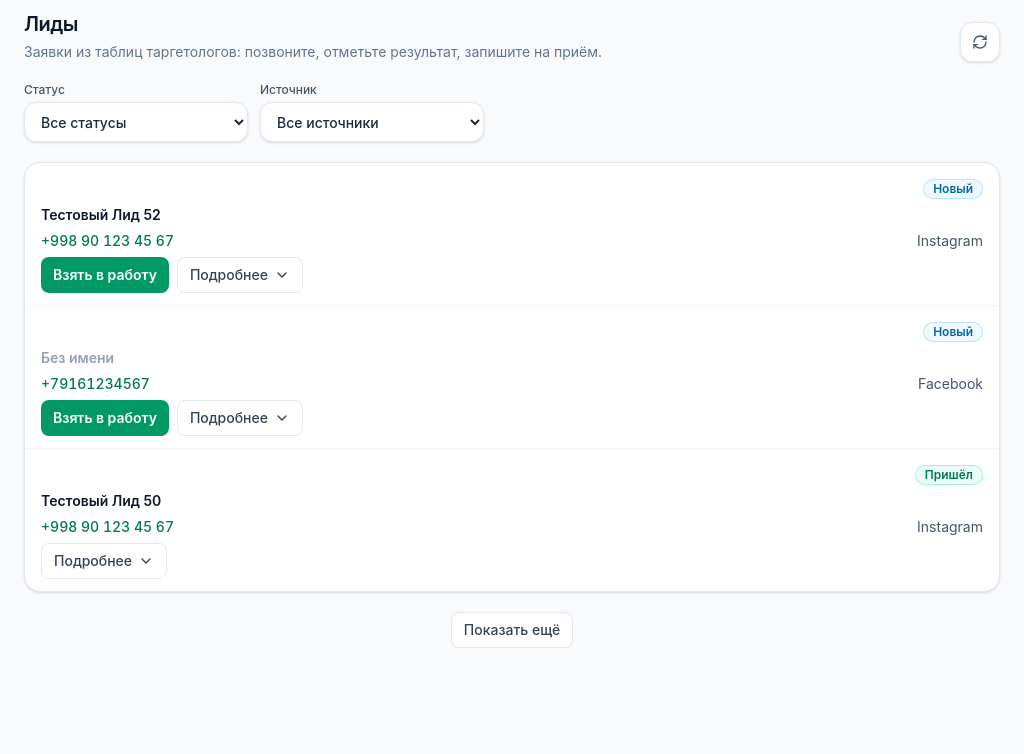
Test: staff leads page › ignores «Показать ещё» while the list is being reloaded: the old cursor is not asked for
Click the button named "Обновить" at x=980, y=42, box [960,22,1000,62]
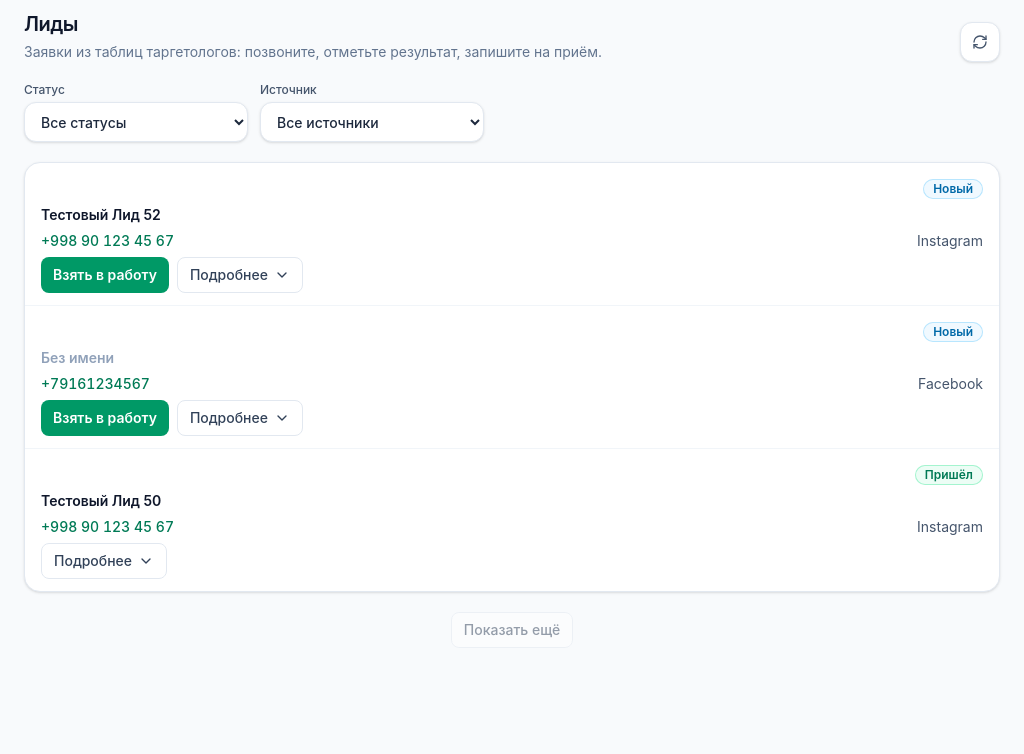
Result: the button "Показать ещё" is disabled
Click the button "Показать ещё" at x=512, y=630, box [451,612,573,648]
(page scrolled)
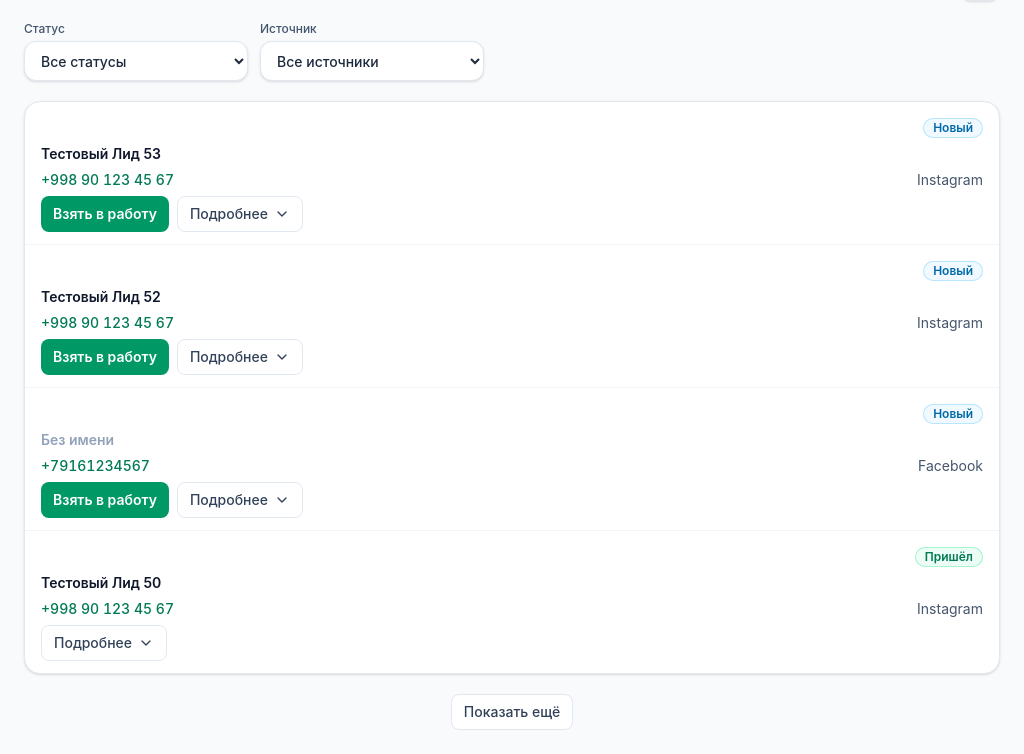
Result: the button "Показать ещё" is enabled at [451,694,573,730]
